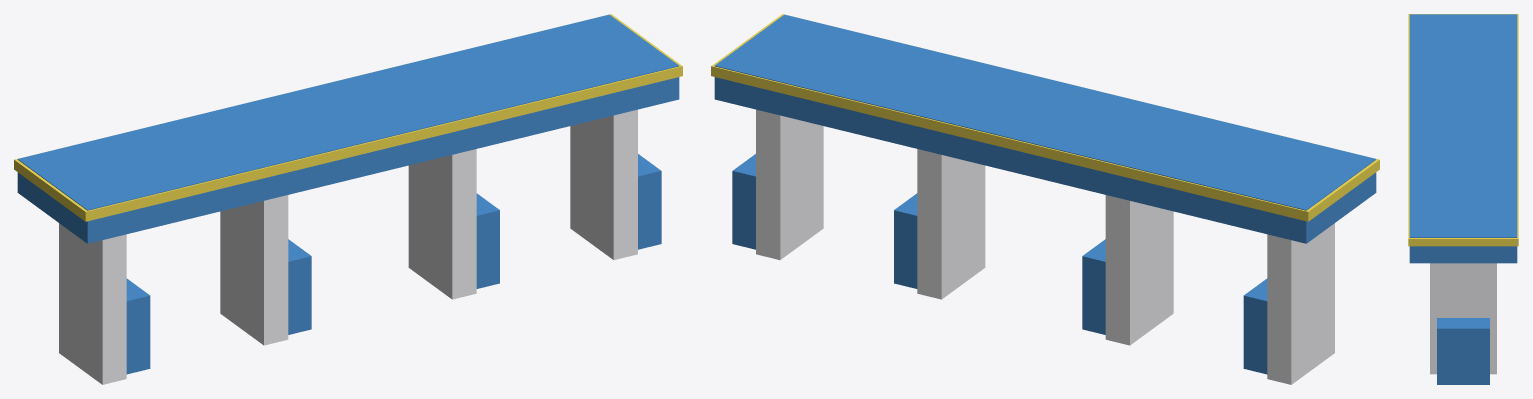
Rendered from peage_autoroute.glb.
The picture shows the model from 3 angles, left to right: view 1: azimuth 30°, elevation 25°; view 2: azimuth 150°, elevation 25°; view 3: azimuth 270°, elevation 25°; orthographic projection. The views are drawn at different scales.
Visible parts, largest first — view 1: CanopyRoof, Pillar_-9.5, Pillar_-3.5, Pillar_3.5, Pillar_9.5, CanopyStripe, Booth_-9.5, Booth_3.5, Booth_-3.5, Booth_9.5; view 2: CanopyRoof, Pillar_-9.5, Pillar_-3.5, Pillar_3.5, Pillar_9.5, CanopyStripe, Booth_-9.5, Booth_3.5, Booth_-3.5, Booth_9.5; view 3: CanopyRoof, Pillar_9.5, Booth_9.5, CanopyStripe.
Part boxes in pixels (box(x1,y1,x2,y2)): CanopyRoof: box(17, 14, 679, 243); Pillar_-9.5: box(59, 223, 126, 384); Pillar_-3.5: box(220, 195, 288, 345); Pillar_3.5: box(408, 149, 476, 299); Pillar_9.5: box(570, 109, 637, 259); CanopyStripe: box(14, 14, 682, 221); Booth_-9.5: box(126, 278, 150, 374); Booth_3.5: box(476, 193, 499, 288); Booth_-3.5: box(288, 239, 311, 334); Booth_9.5: box(638, 154, 661, 249); CanopyRoof: box(714, 14, 1376, 243); Pillar_-9.5: box(1267, 223, 1334, 384); Pillar_-3.5: box(1105, 195, 1173, 345); Pillar_3.5: box(917, 149, 985, 299); Pillar_9.5: box(756, 109, 823, 259); CanopyStripe: box(711, 14, 1379, 221); Booth_-9.5: box(1243, 278, 1267, 374); Booth_3.5: box(894, 193, 917, 288); Booth_-3.5: box(1082, 239, 1105, 334); Booth_9.5: box(732, 154, 755, 249); CanopyRoof: box(1409, 14, 1517, 263); Pillar_9.5: box(1430, 263, 1496, 374); Booth_9.5: box(1437, 318, 1489, 384); CanopyStripe: box(1408, 14, 1518, 246).
Bounding box in the file's own units: 22.2 × 6.8 × 4.6.
